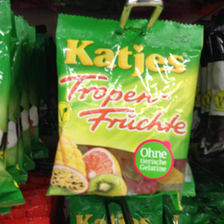candy: (49, 15, 205, 199)
